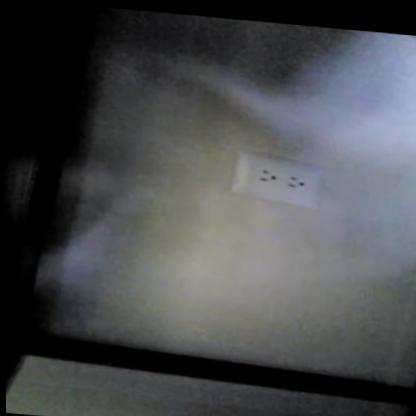OUTLET: (230, 149, 328, 210)
